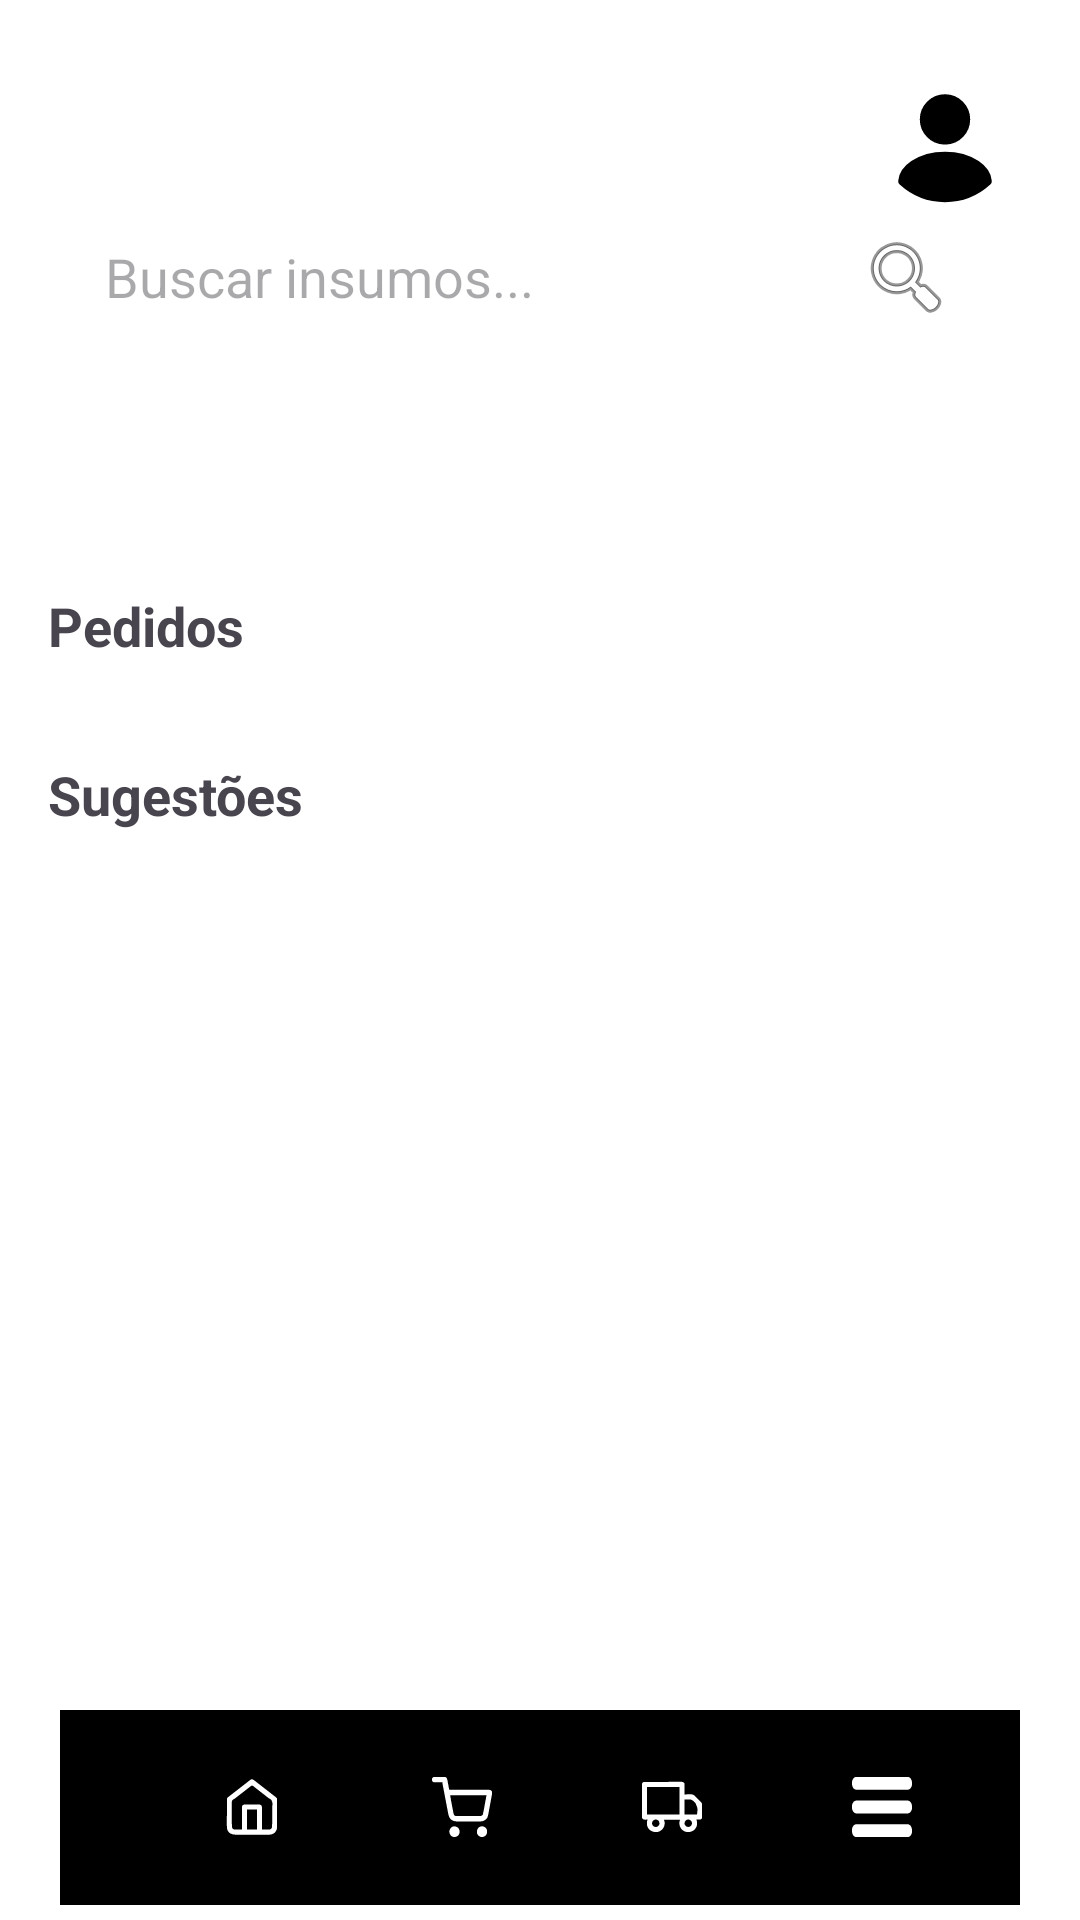

Icon bounding boxes for this 1080 x 1920 phone screenshot, format (x1, y1, x2, y2):
Entrega: (642, 1781, 702, 1832)
Home: (226, 1779, 277, 1835)
Menu: (852, 1777, 912, 1837)
perfil: (898, 94, 992, 203)
